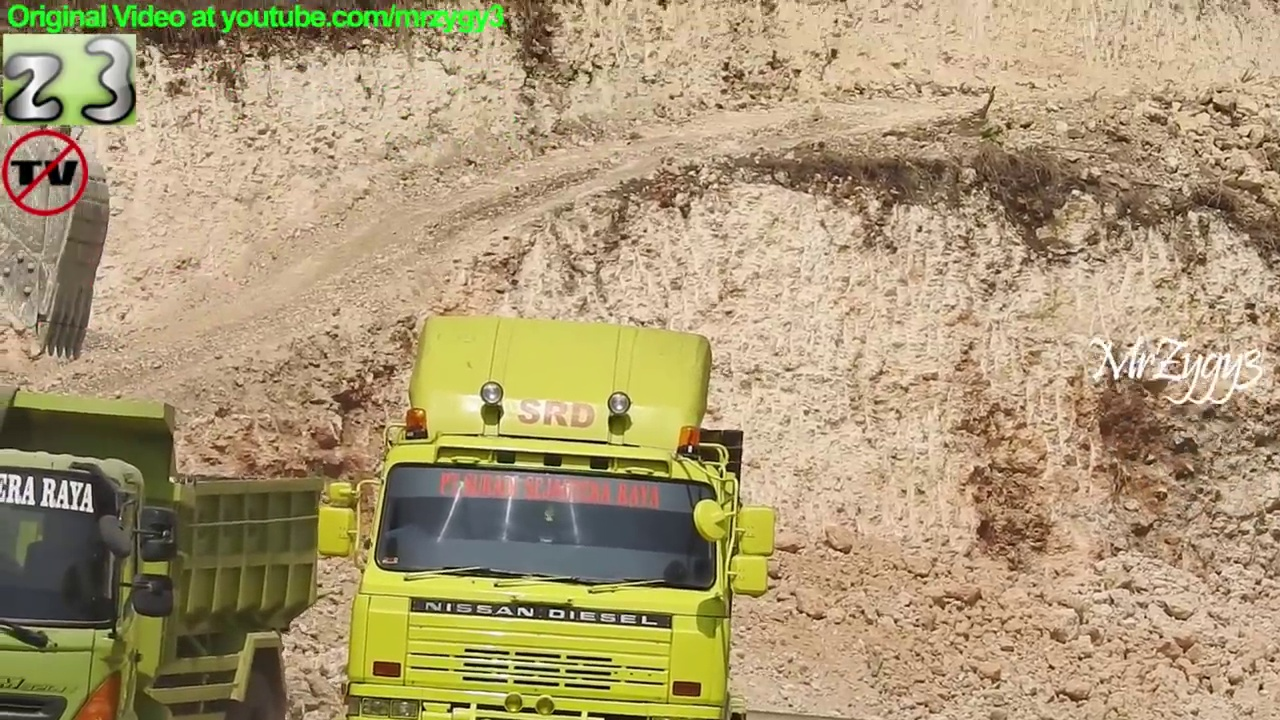excavator: (1, 71, 119, 374)
truck: (315, 306, 780, 720), (1, 379, 329, 720)
